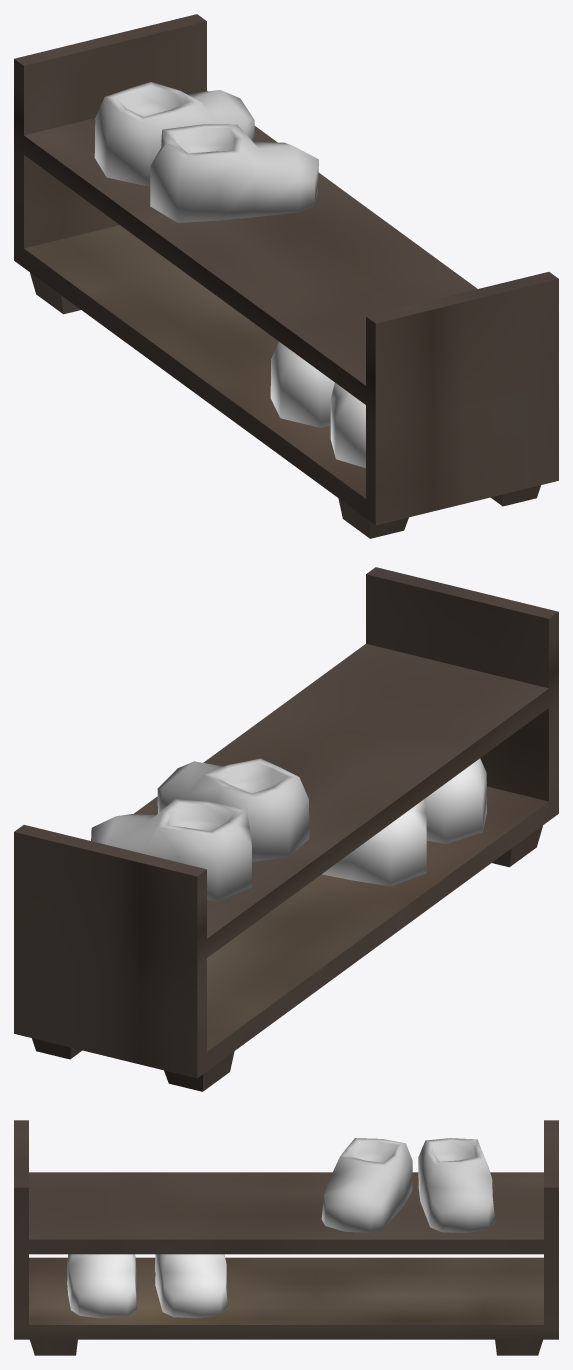
Rendered from ShoeRack.fbx.
3 renders of one model, top to bottom at view 1: azimuth 30°, elevation 25°; view 2: azimuth 150°, elevation 25°; view 3: azimuth 270°, elevation 25°, orthographic. The views are drawn at different scales.
Visible parts, largest first — view 1: Shoe Rack; view 2: Shoe Rack; view 3: Shoe Rack.
Boxes of the visible parts, x1=… form: Shoe Rack: x1=14, y1=14, x2=558, y2=538; Shoe Rack: x1=14, y1=567, x2=558, y2=1091; Shoe Rack: x1=14, y1=1120, x2=558, y2=1355.
Bounding box in the file's own units: 15.32 × 18.17 × 52.39.
